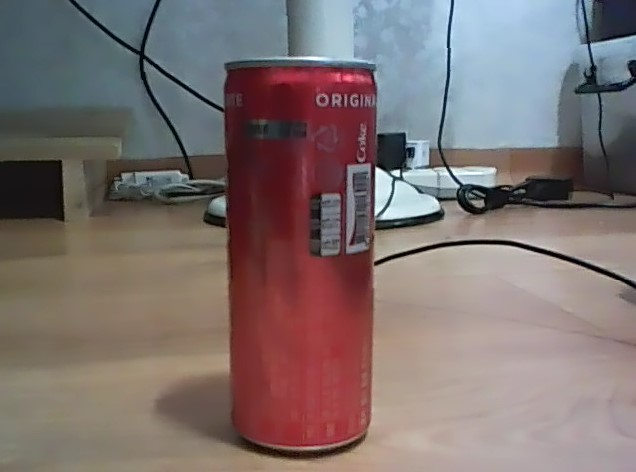Can: (216, 52, 385, 463)
